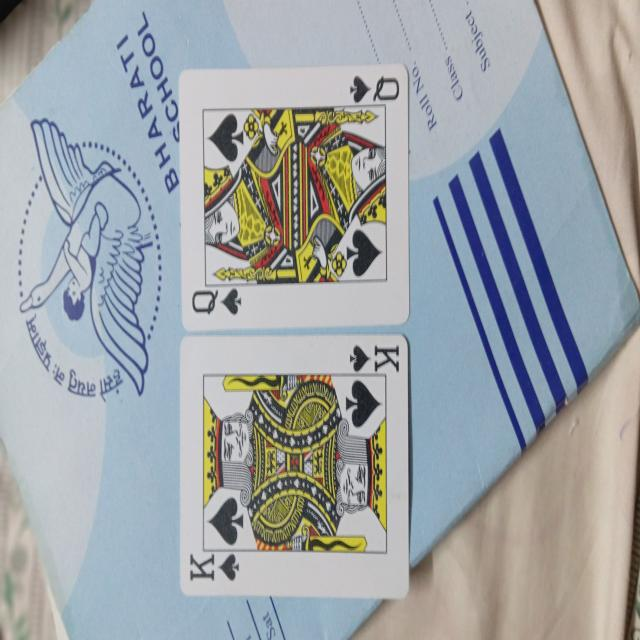KS: (181, 331, 412, 595)
QS: (181, 61, 408, 332)
